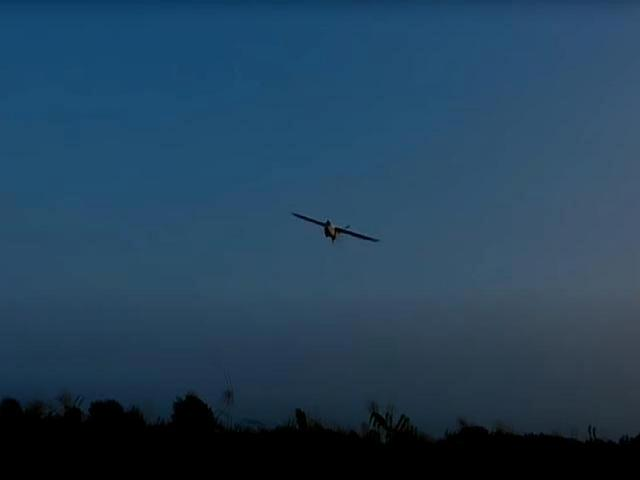iha: (293, 215, 379, 242)
